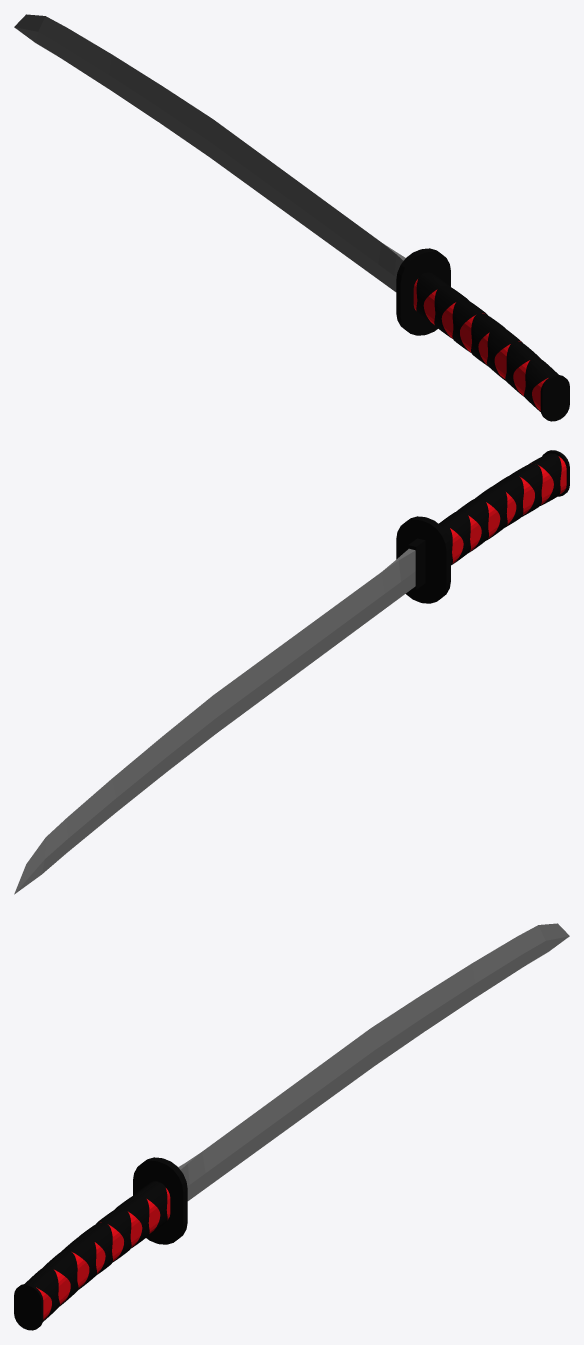
Rendered from katana(tex) 1.fbx.
3 views of the same model, one above another, from view 1: azimuth 30°, elevation 25°; view 2: azimuth 150°, elevation 25°; view 3: azimuth 330°, elevation 25° (orthographic).
Visible parts, largest first — view 1: Cube, Cube.014; view 2: Cube, Cube.014; view 3: Cube, Cube.014.
Part boxes in pixels (x1,y1,x2,y2): Cube: [14, 14, 569, 421]; Cube.014: [416, 272, 558, 411]; Cube: [14, 450, 569, 894]; Cube.014: [439, 453, 561, 565]; Cube: [14, 923, 569, 1330]; Cube.014: [25, 1181, 167, 1321].
Size of the model in its own units: 25.96 by 40.52 by 483.
